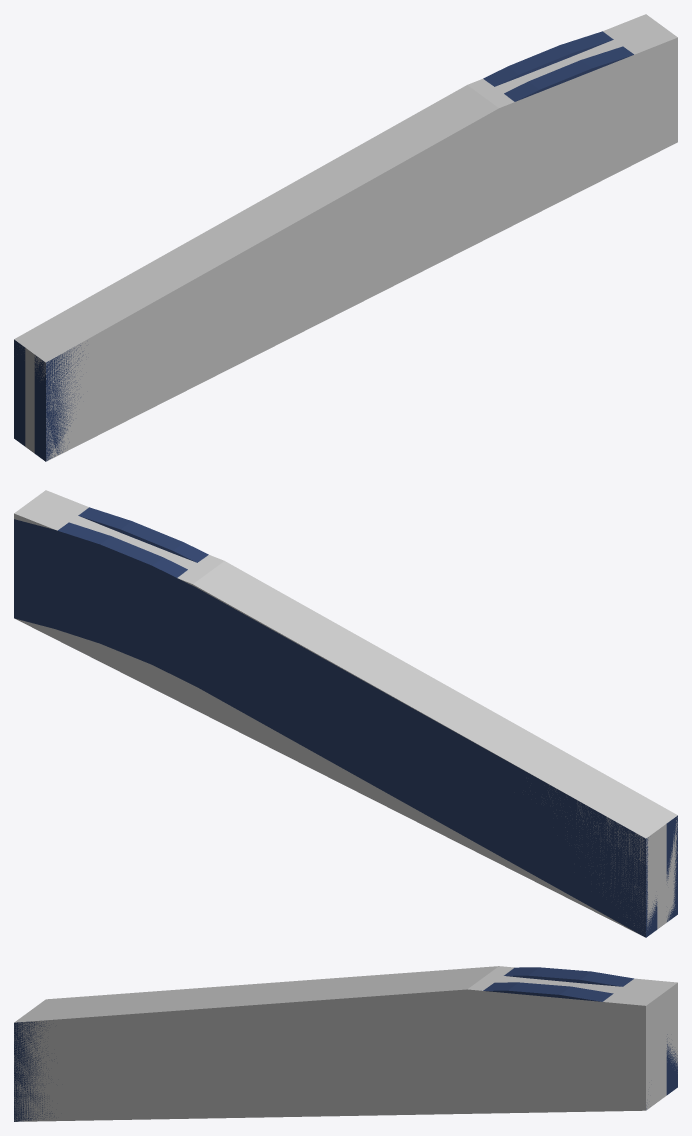
Rendered from SM_Railroad_b.fbx.
3 renders of one model, top to bottom at view 1: azimuth 30°, elevation 25°; view 2: azimuth 150°, elevation 25°; view 3: azimuth 330°, elevation 25°, orthographic.
Visible parts, largest first — view 1: SM_Railroad_b_ConvexHulls, SM_Railroad_b; view 2: SM_Railroad_b, SM_Railroad_b_ConvexHulls; view 3: SM_Railroad_b_ConvexHulls, SM_Railroad_b.
Part boxes in pixels (box(x1,y1,x2,y2)): SM_Railroad_b_ConvexHulls: box(14, 14, 677, 461); SM_Railroad_b: box(14, 31, 633, 461); SM_Railroad_b: box(14, 507, 677, 937); SM_Railroad_b_ConvexHulls: box(14, 490, 677, 934); SM_Railroad_b_ConvexHulls: box(14, 966, 677, 1121); SM_Railroad_b: box(14, 967, 677, 1121).
Bounding box in the file's own units: 800 × 70 × 327.
